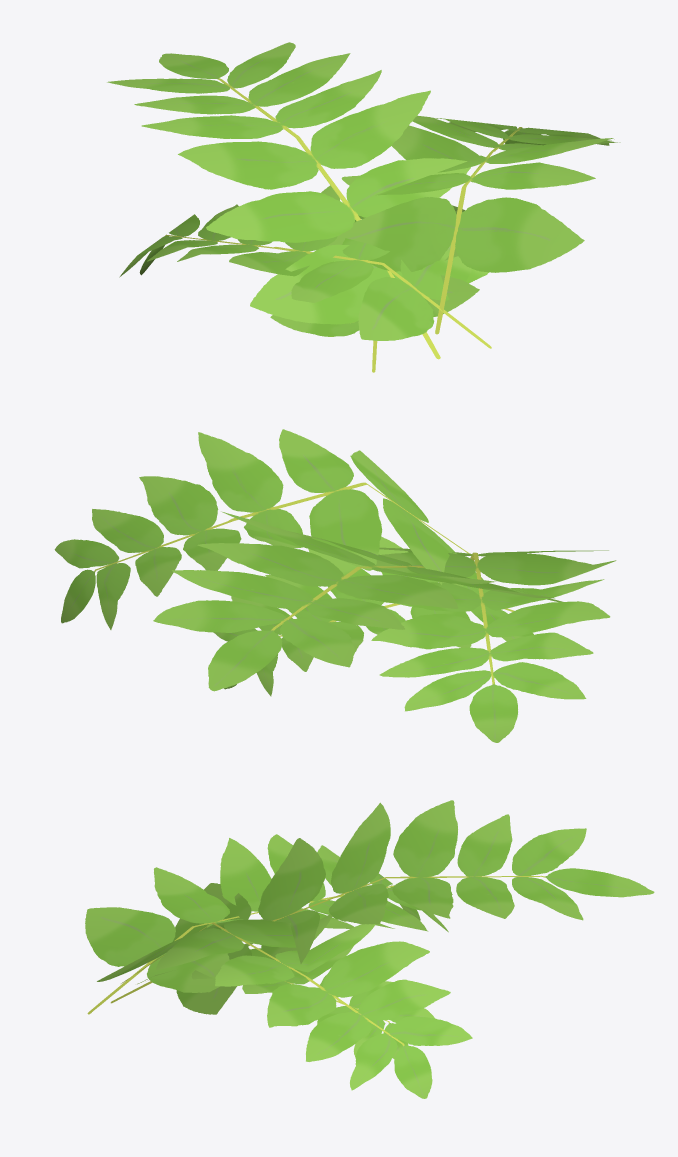
File: Plant_Fern4.fbx
3 renders of one model, top to bottom at view 1: azimuth 30°, elevation 25°; view 2: azimuth 150°, elevation 25°; view 3: azimuth 270°, elevation 25°, orthographic. The views are drawn at different scales.
Parts seen in each view (by area): view 1: Fern2; view 2: Fern2; view 3: Fern2.
Part boxes in pixels (bbox=[...]): Fern2: bbox=[107, 42, 620, 372]; Fern2: bbox=[54, 429, 616, 742]; Fern2: bbox=[85, 800, 654, 1098].
Size of the model in its own units: 21.75 by 5.75 by 21.06.
